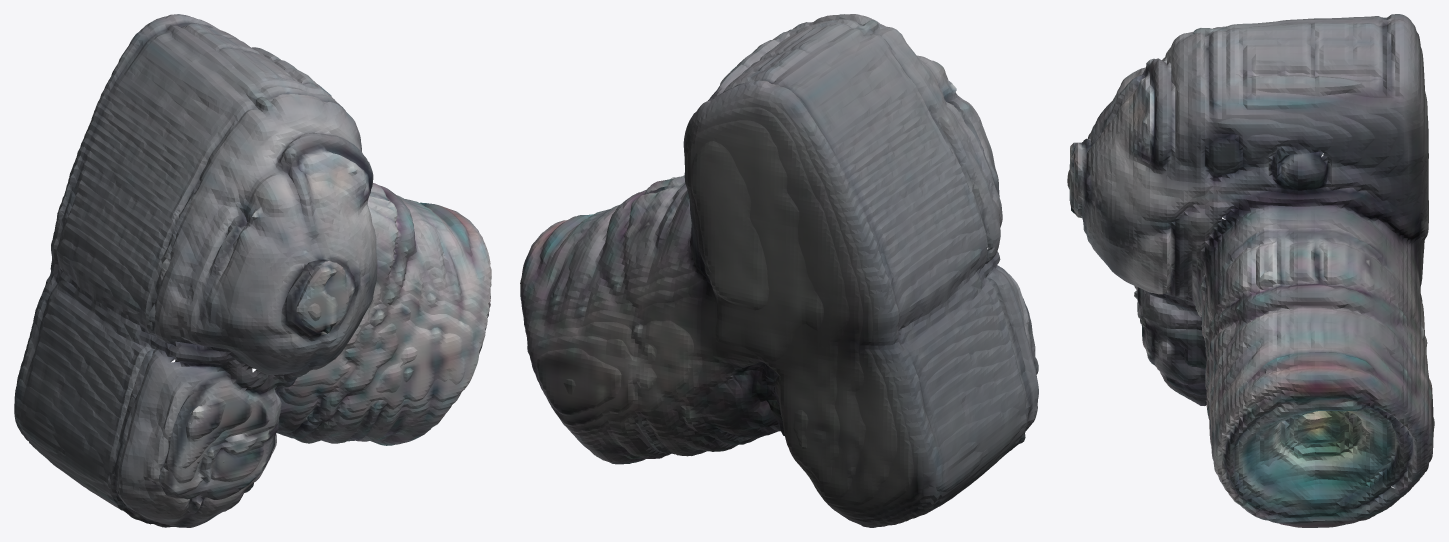
The model's file is camera.glb.
3 renders of one model, left to right at view 1: azimuth 30°, elevation 25°; view 2: azimuth 150°, elevation 25°; view 3: azimuth 270°, elevation 25°, orthographic. The views are drawn at different scales.
Visible parts, largest first — view 1: world; view 2: world; view 3: world.
Part boxes in pixels (x1,y1,x2,y2): world: (14, 14, 491, 527); world: (520, 14, 1038, 527); world: (1067, 14, 1434, 527).
Bounding box in the file's own units: 0.7803 × 0.7645 × 0.5925.
